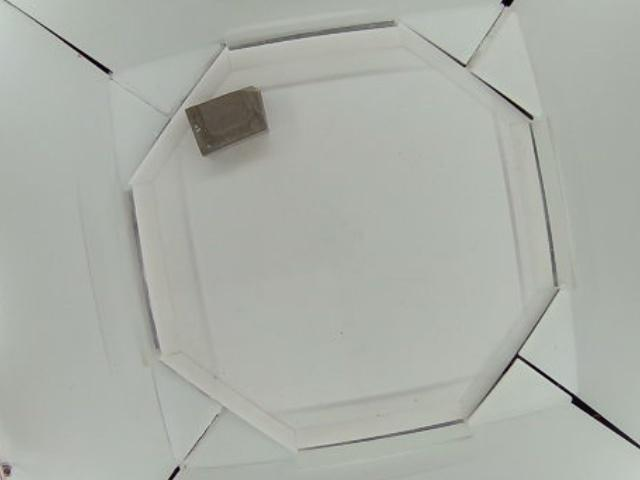China: (186, 85, 271, 152)
